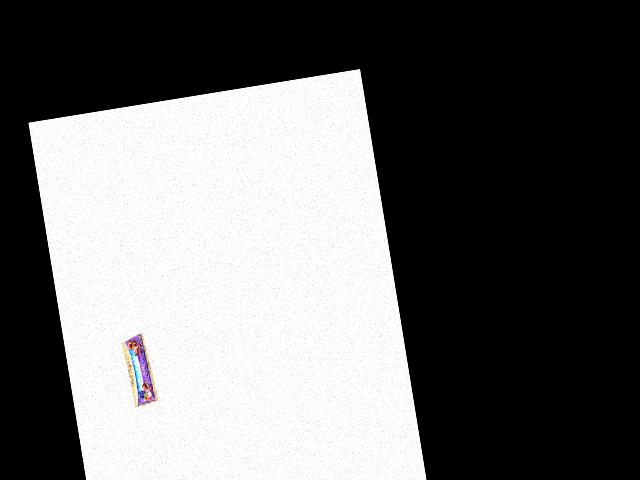chocolate: (123, 328, 159, 407)
